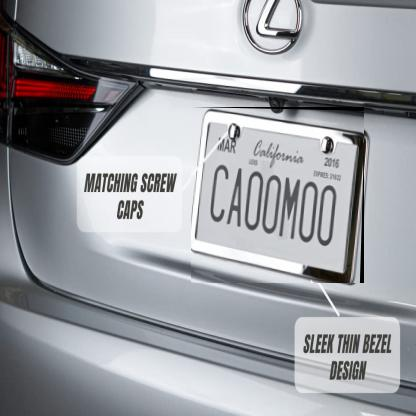Plates: (191, 107, 365, 284)
